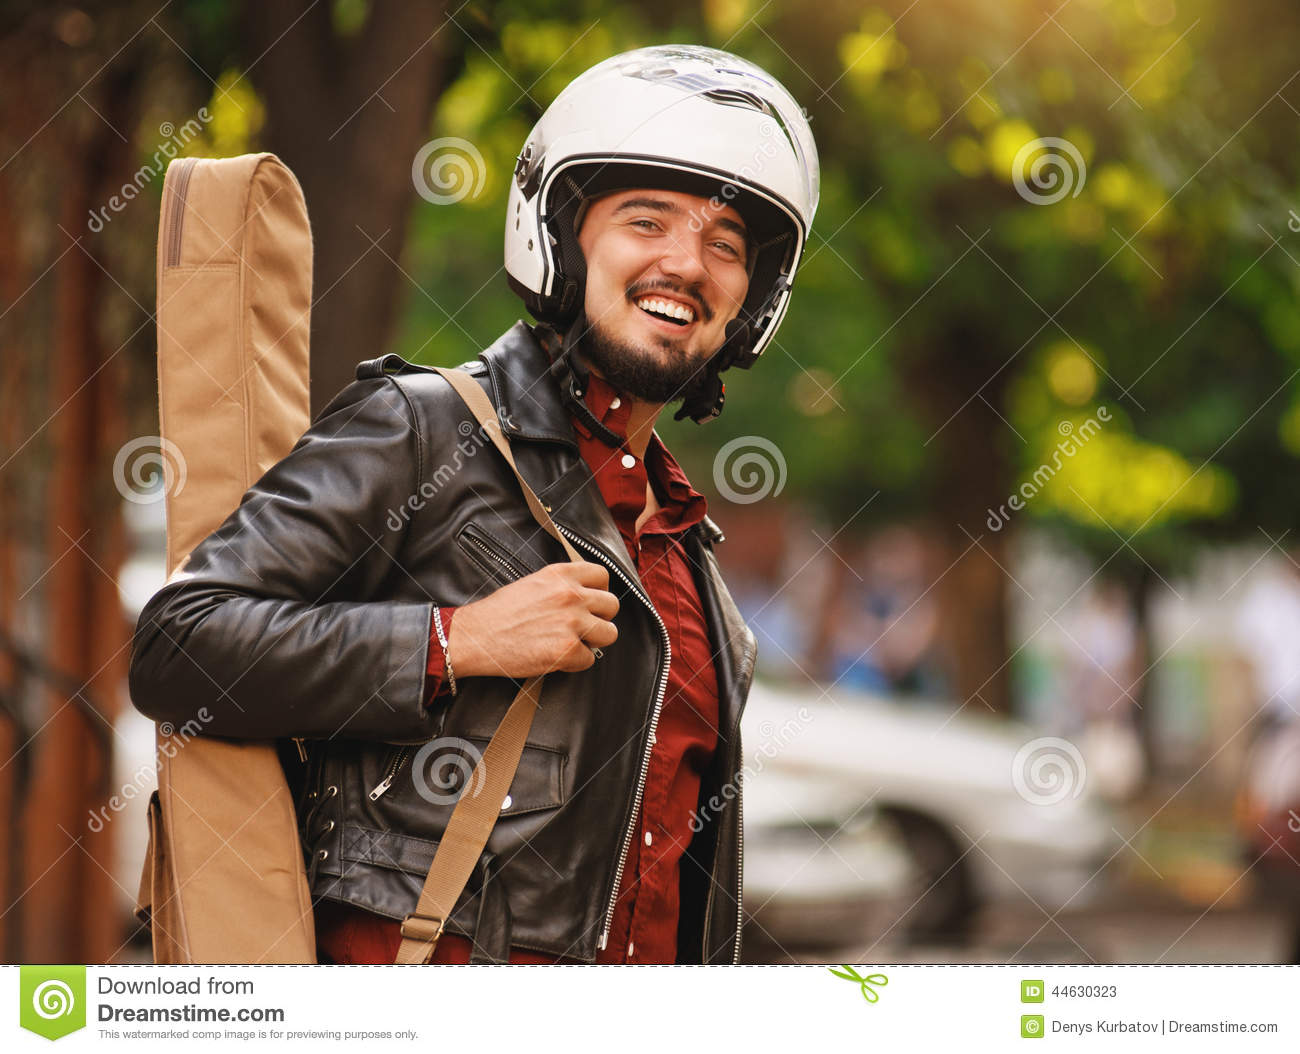helmet: (512, 55, 832, 325)
